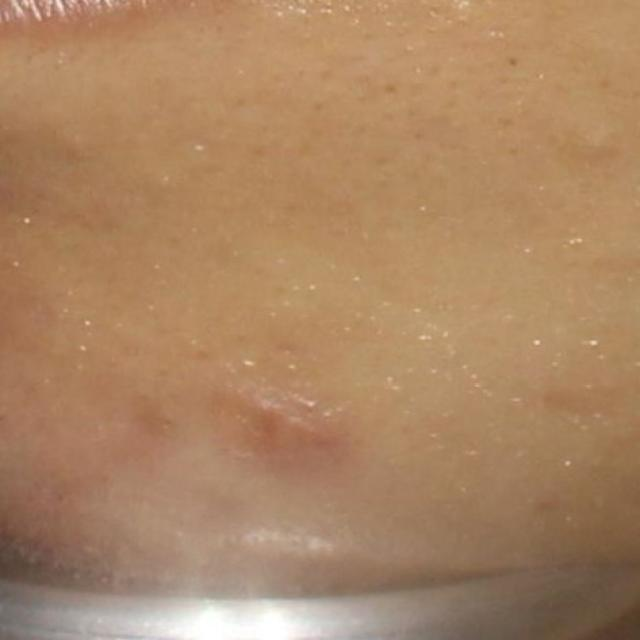nodule: (210, 394, 342, 468)
